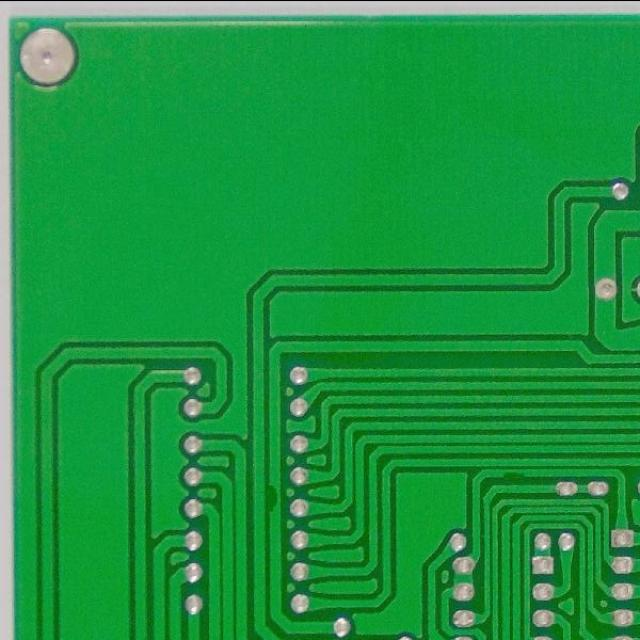MouseBite: (266, 479, 284, 516), (498, 467, 529, 480)
